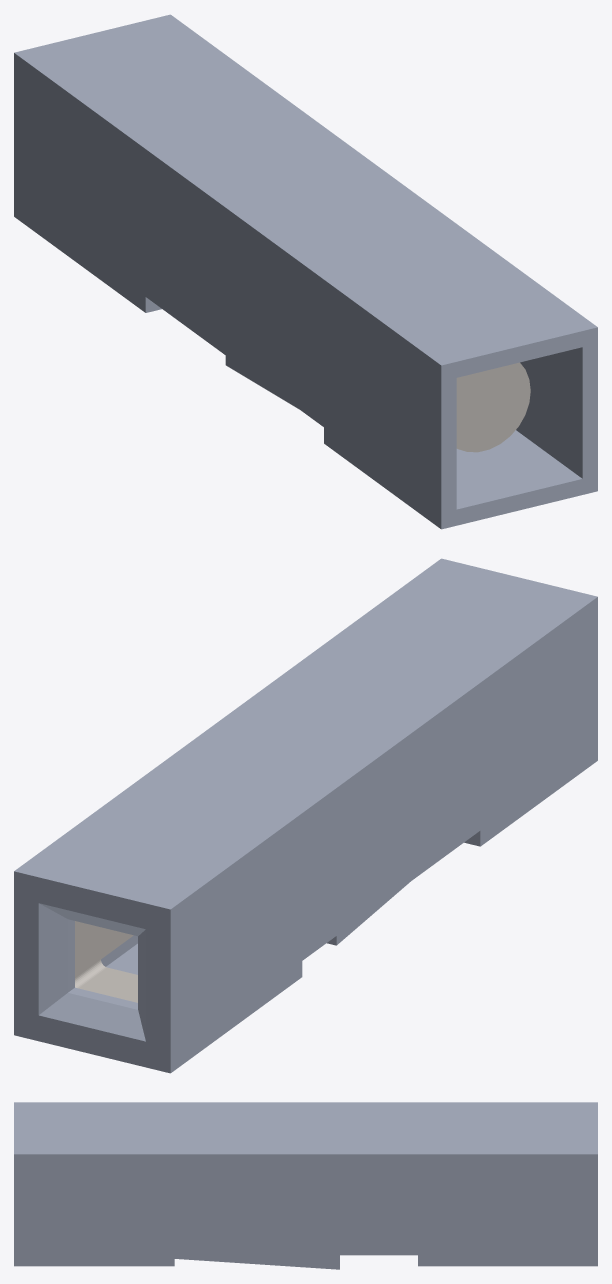
3 views of the same model, one above another, from view 1: azimuth 30°, elevation 25°; view 2: azimuth 150°, elevation 25°; view 3: azimuth 270°, elevation 25° (orthographic). The views are drawn at different scales.
Parts seen in each view (by area): view 1: DS1071-1x1; view 2: DS1071-1x1; view 3: DS1071-1x1.
Boxes of the visible parts, left/top/right/bottom form: DS1071-1x1: left=14, top=14, right=597, bottom=529; DS1071-1x1: left=14, top=558, right=597, bottom=1073; DS1071-1x1: left=14, top=1102, right=597, bottom=1269.
Size of the model in its own units: 0.00281 by 0.00308 by 0.0133.
